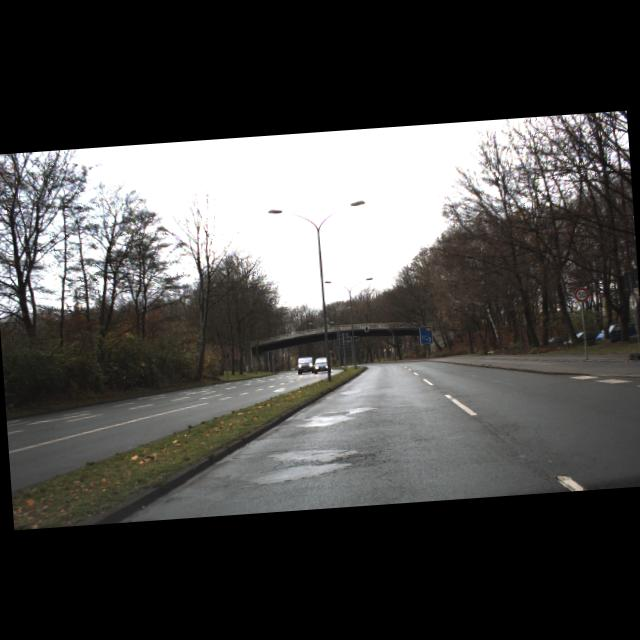prohibitory: (574, 286, 588, 301)
